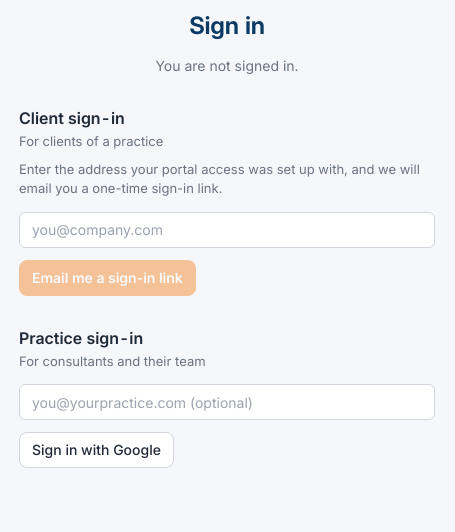
Test: the signed-out screen (2026-09-30) › says so when rate-limited
Type "a@b.co" into the field named "Your email address" at (227,230), box 19,212 -> 435,248
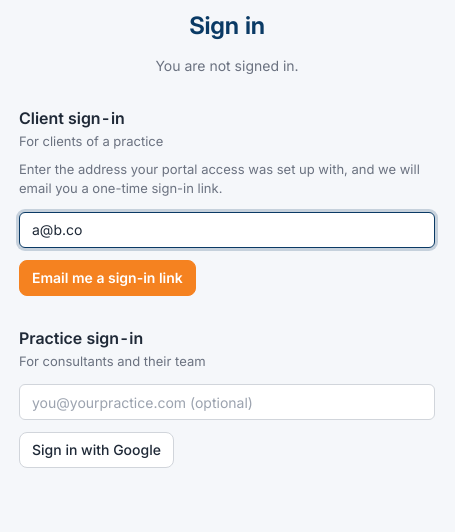
Click the button "Email me a sign-in link" at (107,278), box 19,260 -> 196,296
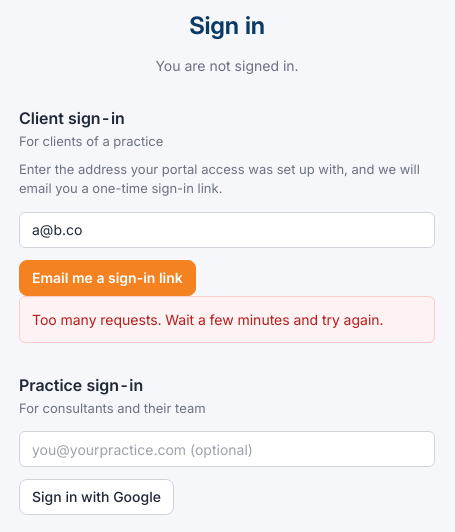
expect the text "Too many requests. Wait a few minutes and try again." is shown: met, box 32,308 -> 422,330
